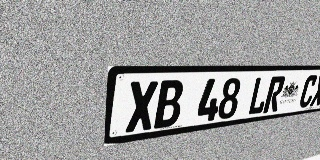4: (196, 78, 224, 123)
8: (217, 78, 243, 120)
B: (154, 80, 185, 129)
C: (298, 75, 319, 108)
L: (247, 77, 271, 115)
R: (263, 76, 286, 113)
X: (125, 81, 158, 133), (309, 74, 320, 106)
